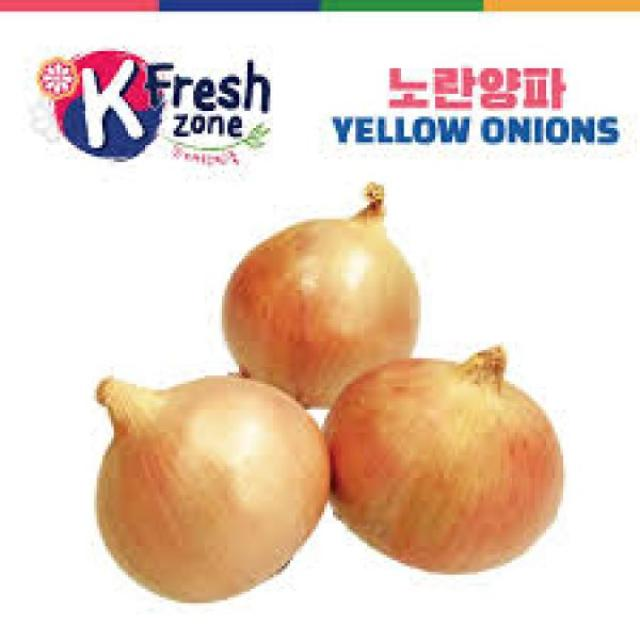Onion: (321, 348, 565, 578), (94, 375, 333, 605), (221, 182, 423, 412)
